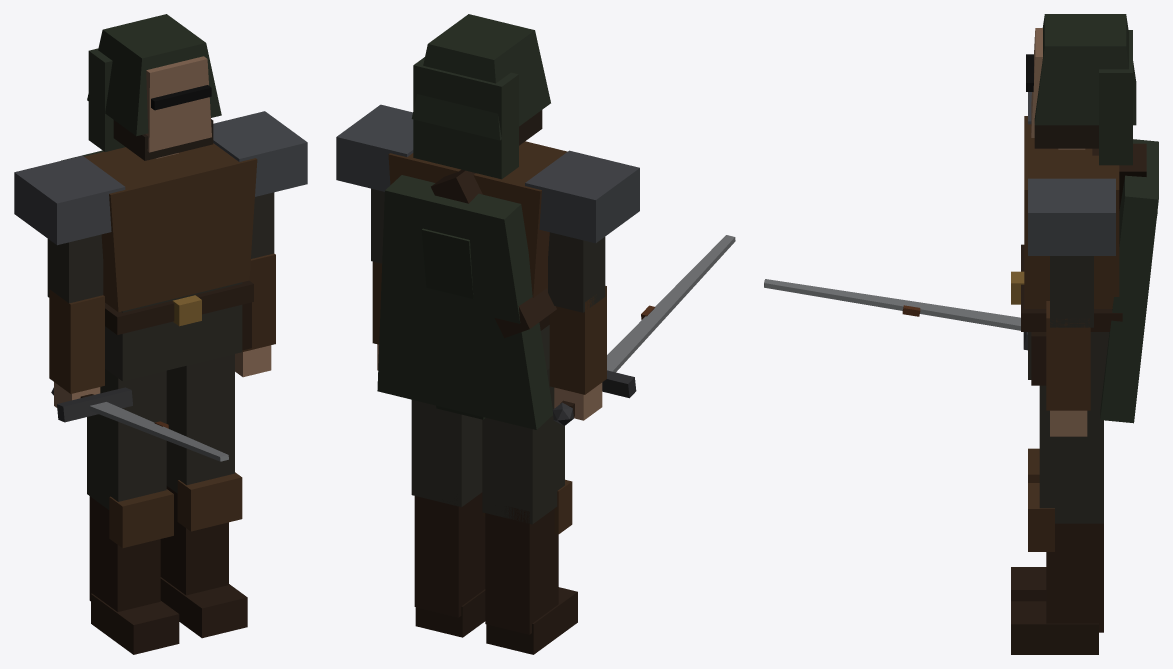
File: warden.glb
3 renders of one model, left to right at view 1: azimuth 30°, elevation 25°; view 2: azimuth 150°, elevation 25°; view 3: azimuth 270°, elevation 25°, orthographic. The views are drawn at different scales.
Visible parts, largest first — view 1: Torso, Leg_R, Leg_L, Arm_R, Head, Arm_L, Weapon; view 2: Torso, Leg_R, Head, Arm_R, Leg_L, Arm_L, Weapon; view 3: Torso, Leg_L, Arm_L, Head, Weapon, Leg_R.
Part boxes in pixels (x1=…): Torso: x1=61, y1=143, x2=257, y2=381; Leg_R: x1=87, y1=369, x2=179, y2=654; Leg_L: x1=160, y1=354, x2=247, y2=638; Arm_R: x1=14, y1=155, x2=125, y2=407; Head: x1=87, y1=14, x2=221, y2=160; Arm_L: x1=213, y1=111, x2=307, y2=377; Weapon: x1=51, y1=387, x2=228, y2=461; Torso: x1=377, y1=141, x2=567, y2=429; Leg_R: x1=482, y1=368, x2=577, y2=654; Head: x1=411, y1=14, x2=550, y2=179; Arm_R: x1=525, y1=150, x2=639, y2=420; Leg_L: x1=411, y1=400, x2=485, y2=637; Arm_L: x1=336, y1=104, x2=413, y2=370; Weapon: x1=552, y1=235, x2=735, y2=425; Torso: x1=1011, y1=116, x2=1158, y2=423; Leg_L: x1=1011, y1=380, x2=1103, y2=654; Arm_L: x1=1028, y1=178, x2=1115, y2=436; Head: x1=1026, y1=14, x2=1136, y2=165; Weapon: x1=764, y1=279, x2=1027, y2=350; Leg_R: x1=1011, y1=448, x2=1046, y2=601.
Size of the model in its own units: 0.88 by 1.94 by 1.16.
